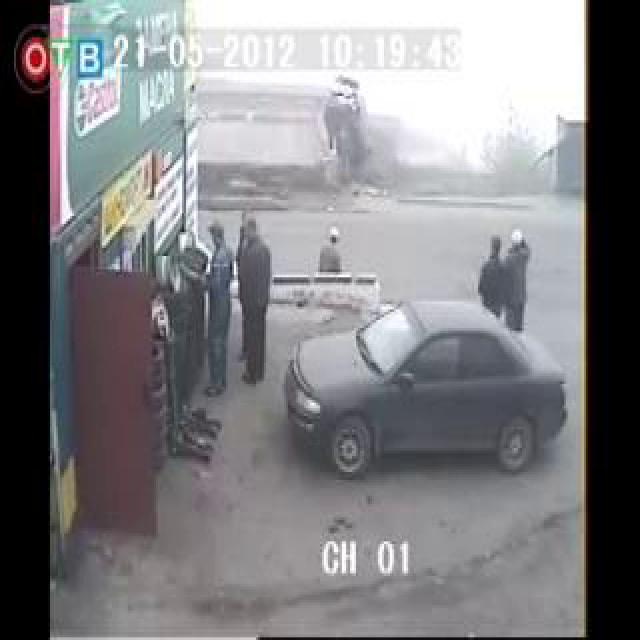road accidents: (128, 19, 549, 456)
